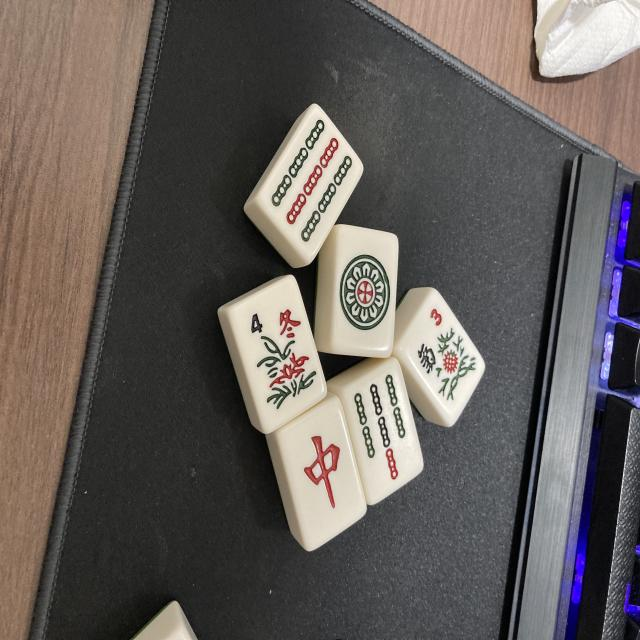1D: (319, 227, 399, 359)
3F: (396, 295, 485, 420)
4S: (230, 279, 328, 430)
7B: (338, 362, 424, 502)
9B: (254, 106, 364, 258)
RD: (280, 401, 370, 551)
